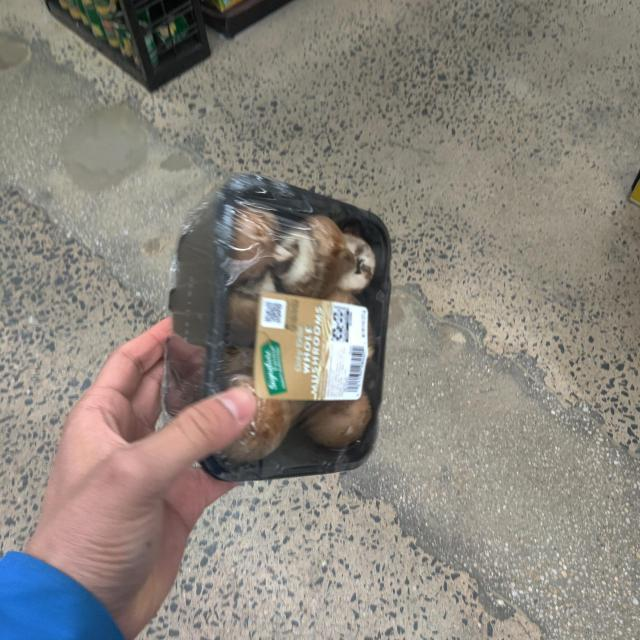Mushrooms: (174, 184, 394, 476)
